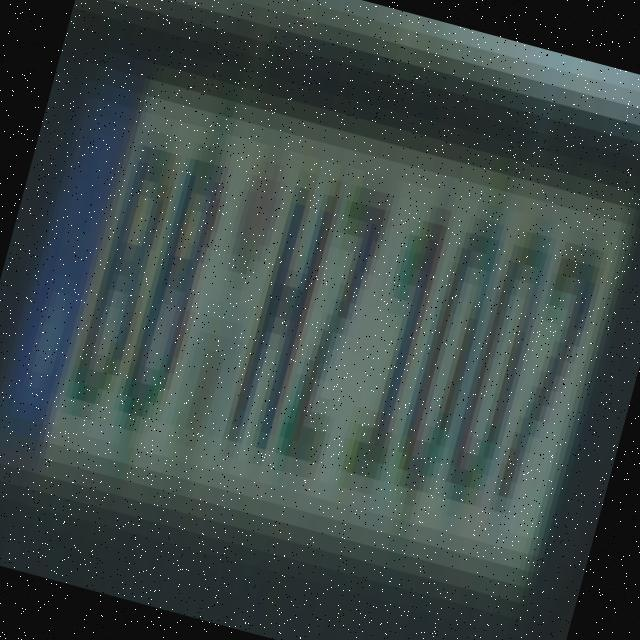Autre: (0, 55, 639, 624)
